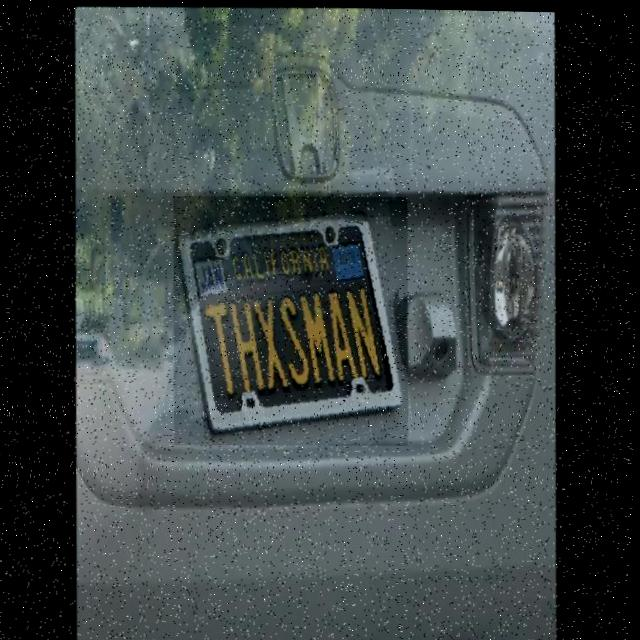LicensePlate: (171, 191, 412, 448)
